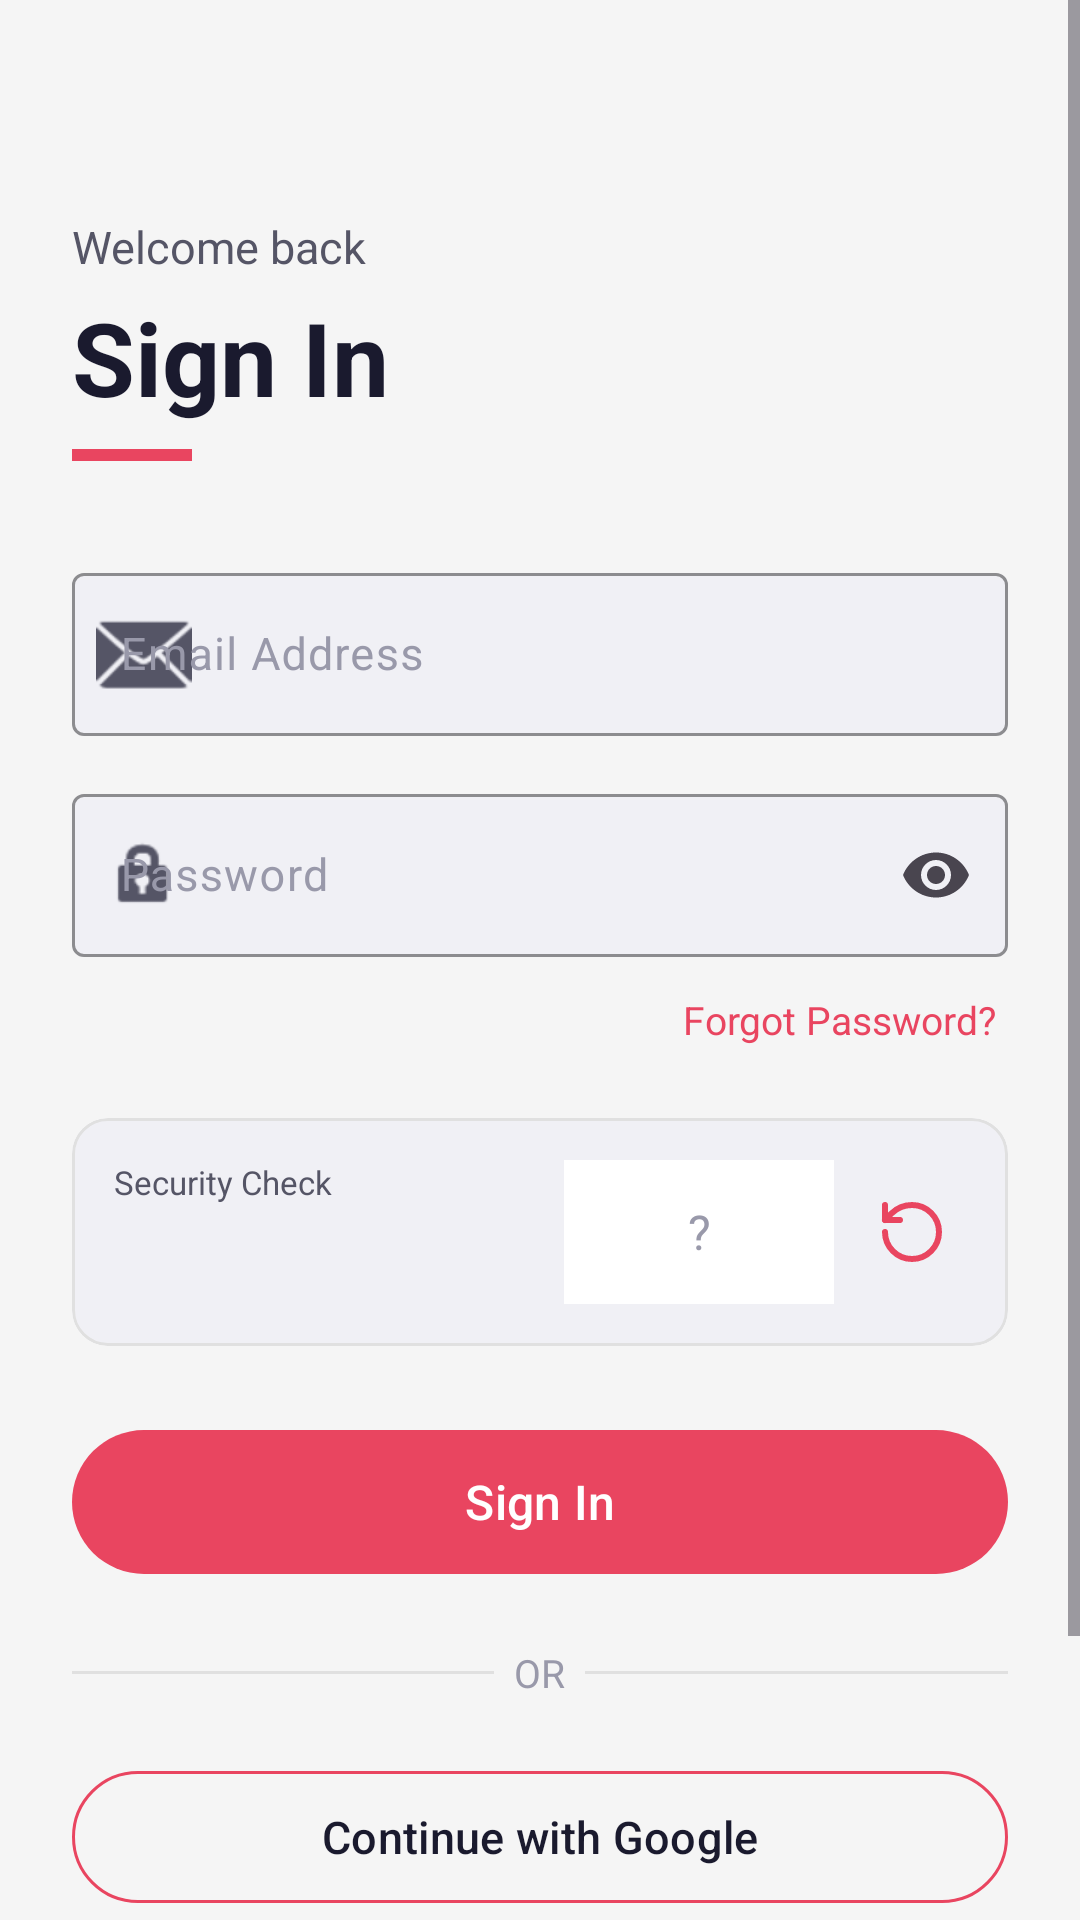

Point at icon controls on the screen. Image size 1080w x 1920h, points as (x=x, y=y).
reset: (x=912, y=1232)
